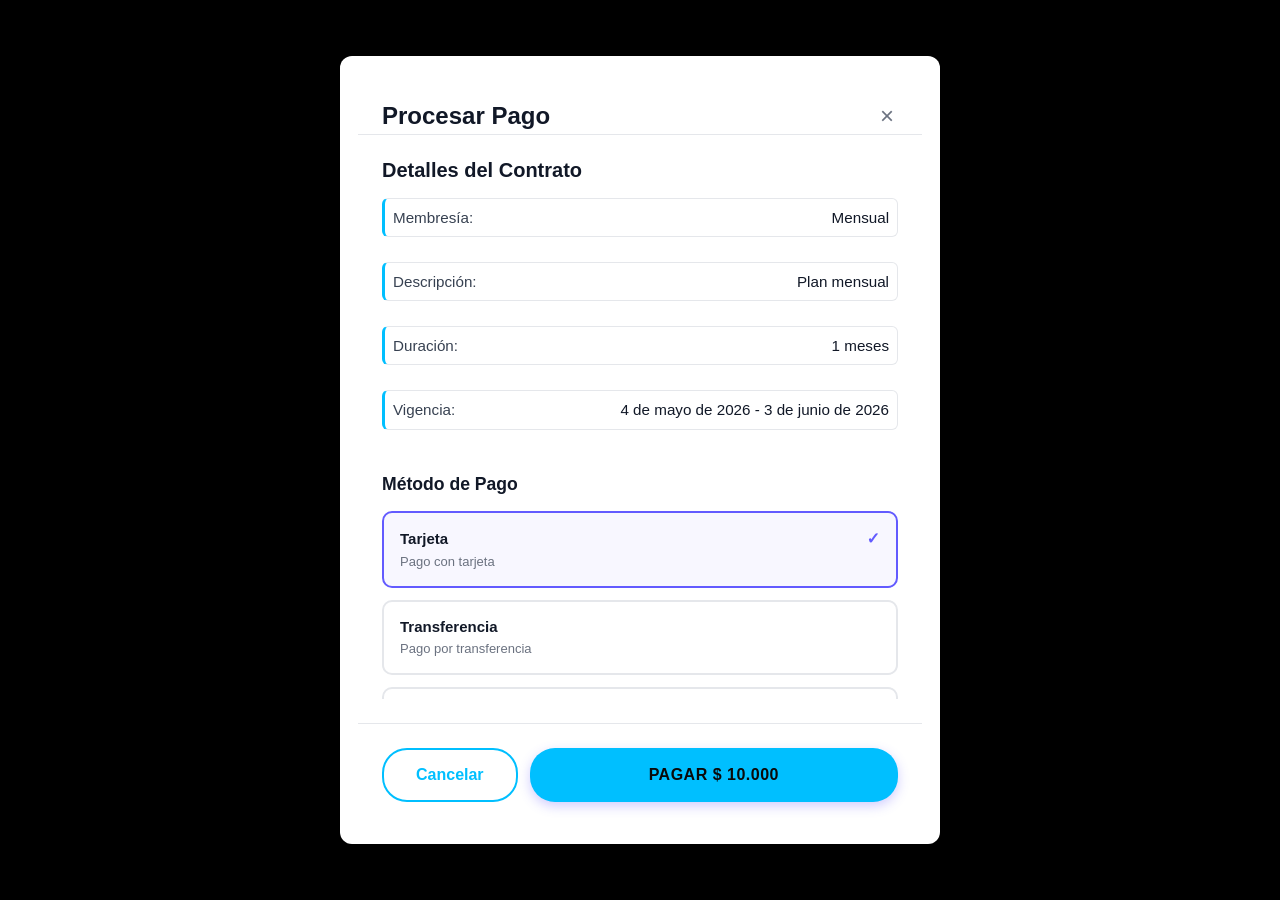
Test: PagoModal › muestra error si se intenta pagar un contrato no pendiente
Expected: the text "Tarjeta" is shown, top-left (400, 530), bottom-right (448, 547)
Click the button "Pagar $ 10.000". click: x=714, y=775
box: top-left (530, 748), bottom-right (898, 802)
(page scrolled)
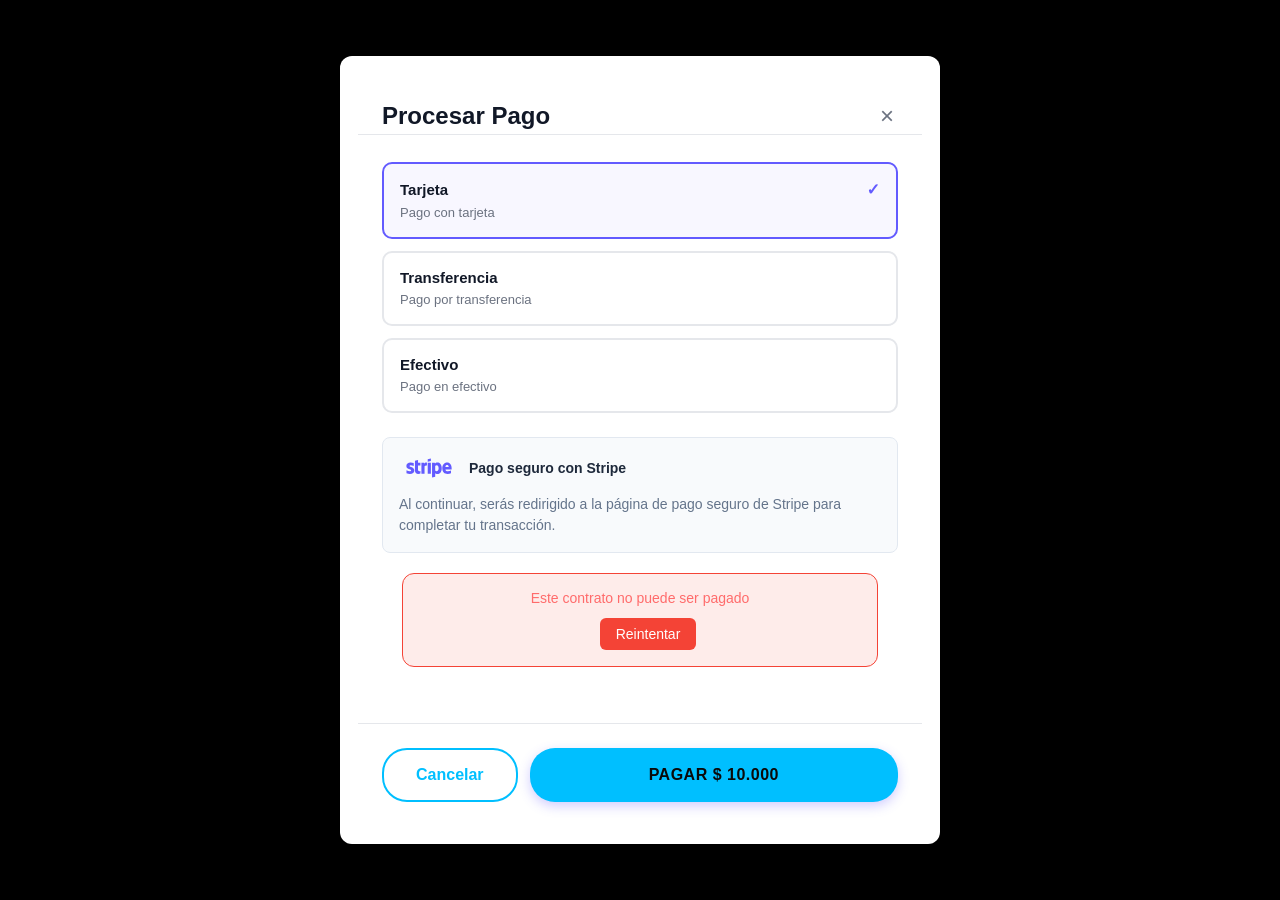
Expected: the text "Este contrato no puede ser pagado" is shown, top-left (531, 590), bottom-right (749, 606)
